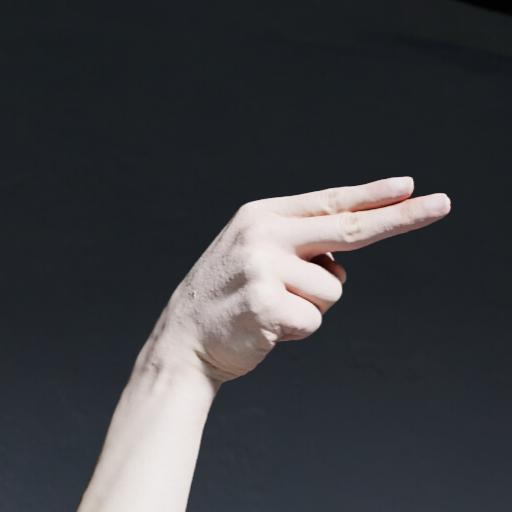H: (129, 136, 456, 403)
